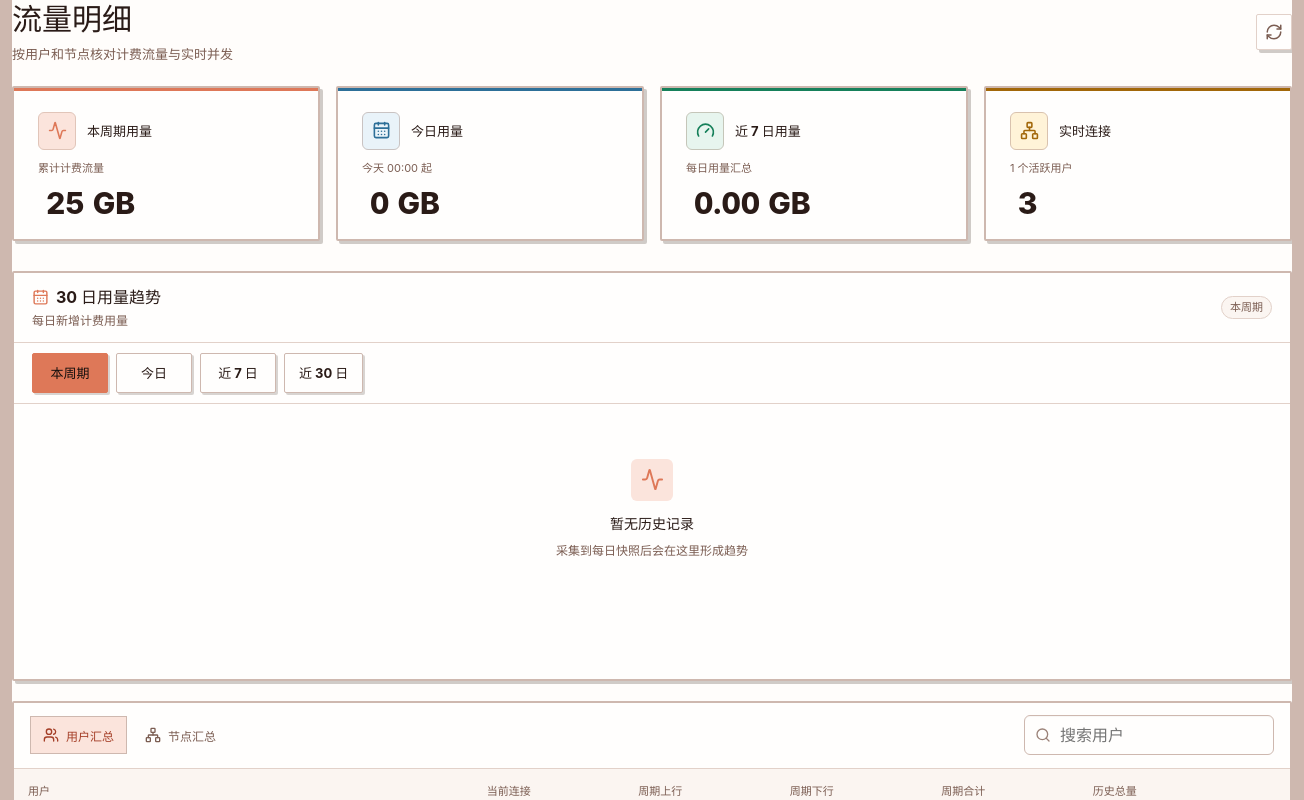
Test case: traffic workbench › loads the admin summary, user and node aggregates, and live connection contract
Click the tab "节点汇总" at (180, 735), box [132,716,229,754]
(page scrolled)
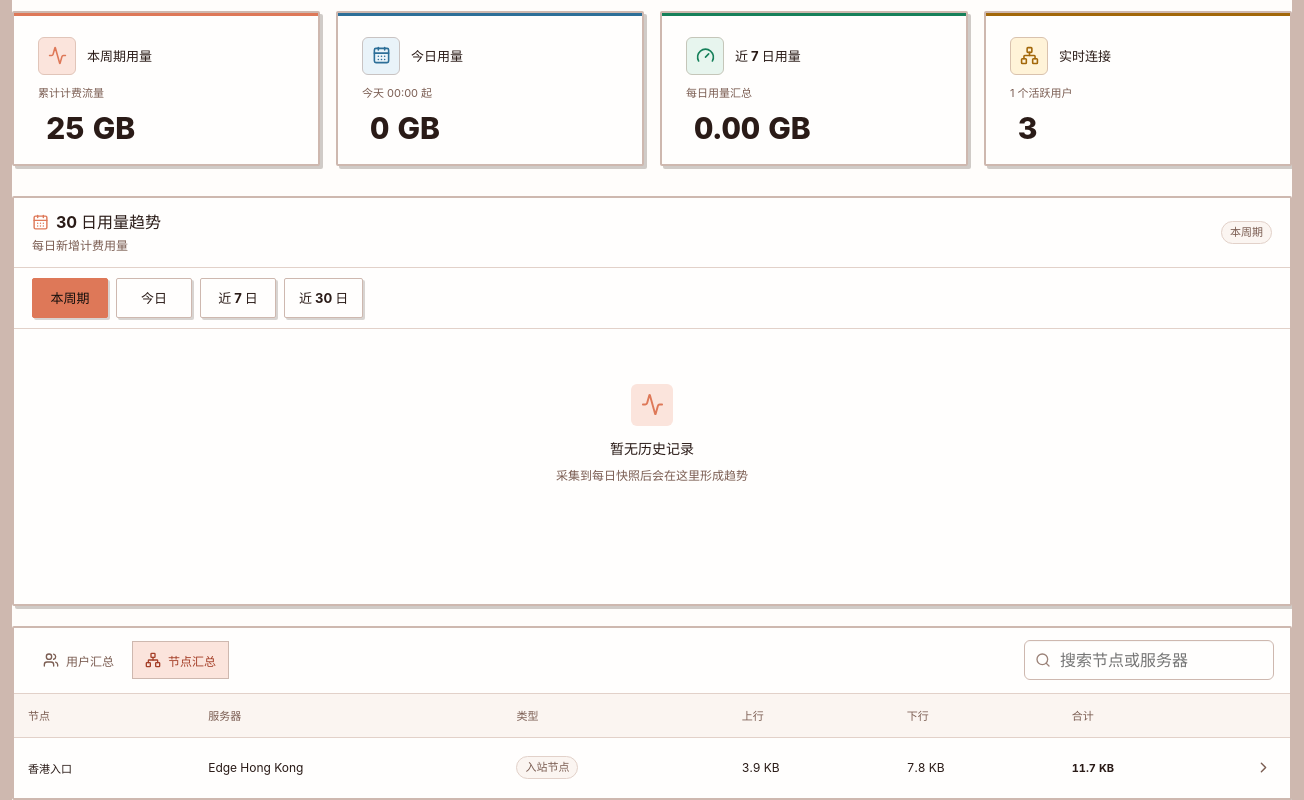
expect the text "香港入口" is shown: met, box [28,762,72,776]
